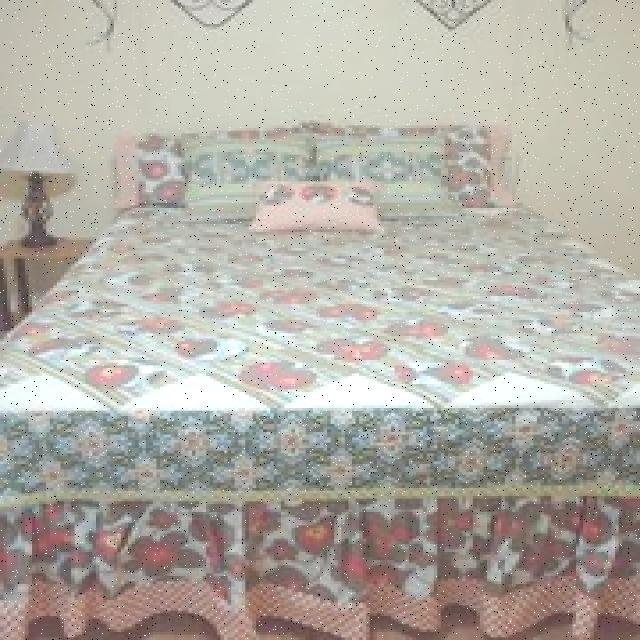bed: (0, 117, 640, 624)
